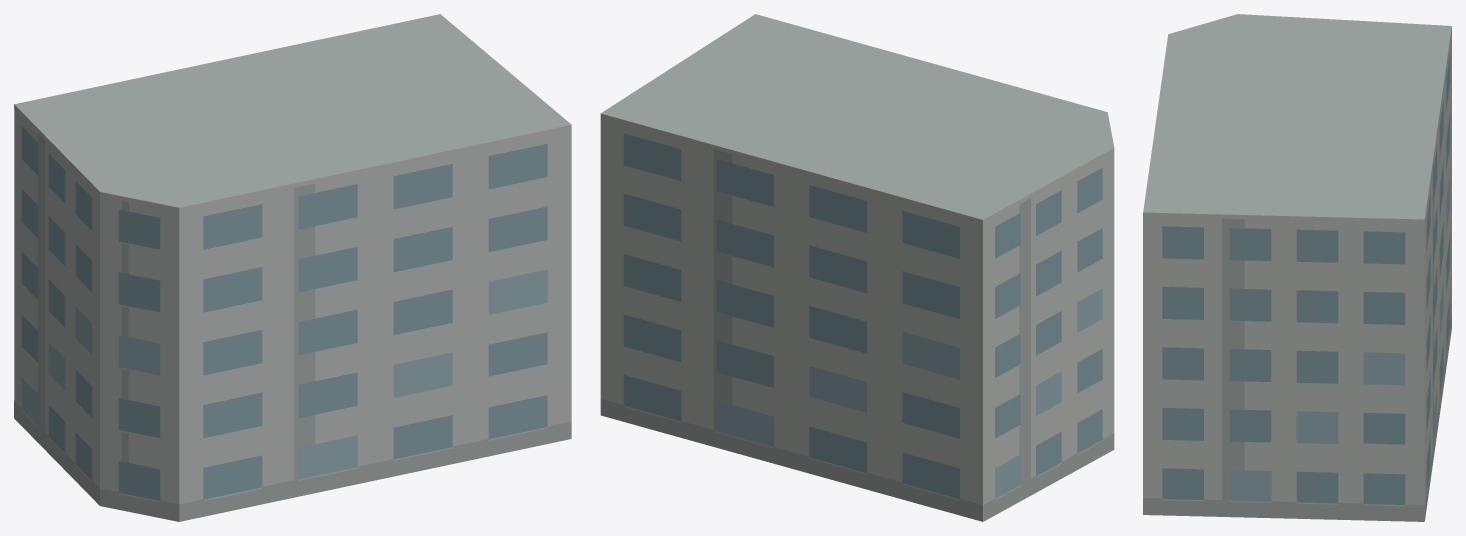
The model's file is survey-upis-32885377.glb.
3 views of the same model, side by side, from view 1: azimuth 30°, elevation 25°; view 2: azimuth 150°, elevation 25°; view 3: azimuth 270°, elevation 25° (orthographic). The views are drawn at different scales.
Visible parts, largest first — view 1: survey-upis-32885377.tmp; view 2: survey-upis-32885377.tmp; view 3: survey-upis-32885377.tmp.
Part boxes in pixels (x1,y1,x2,y2): survey-upis-32885377.tmp: (14,14,571,521); survey-upis-32885377.tmp: (600,14,1114,521); survey-upis-32885377.tmp: (1143,14,1451,521).
Bounding box in the file's own units: 25.8 × 17.7 × 16.39.
